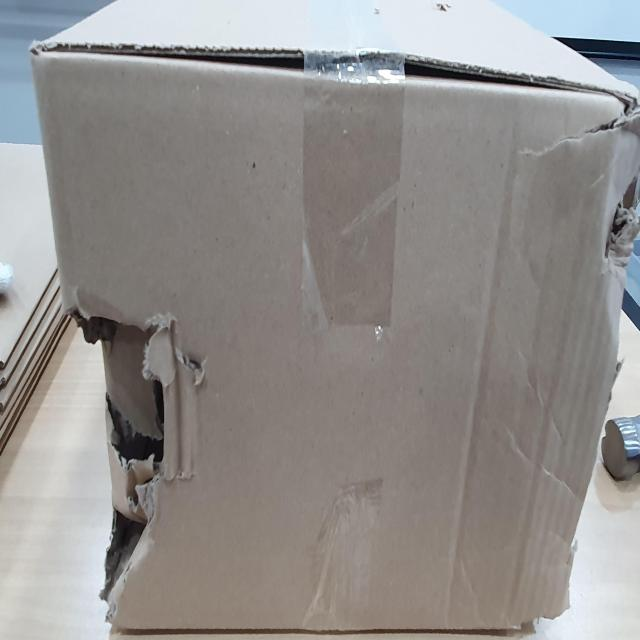damaged: (86, 308, 202, 590)
